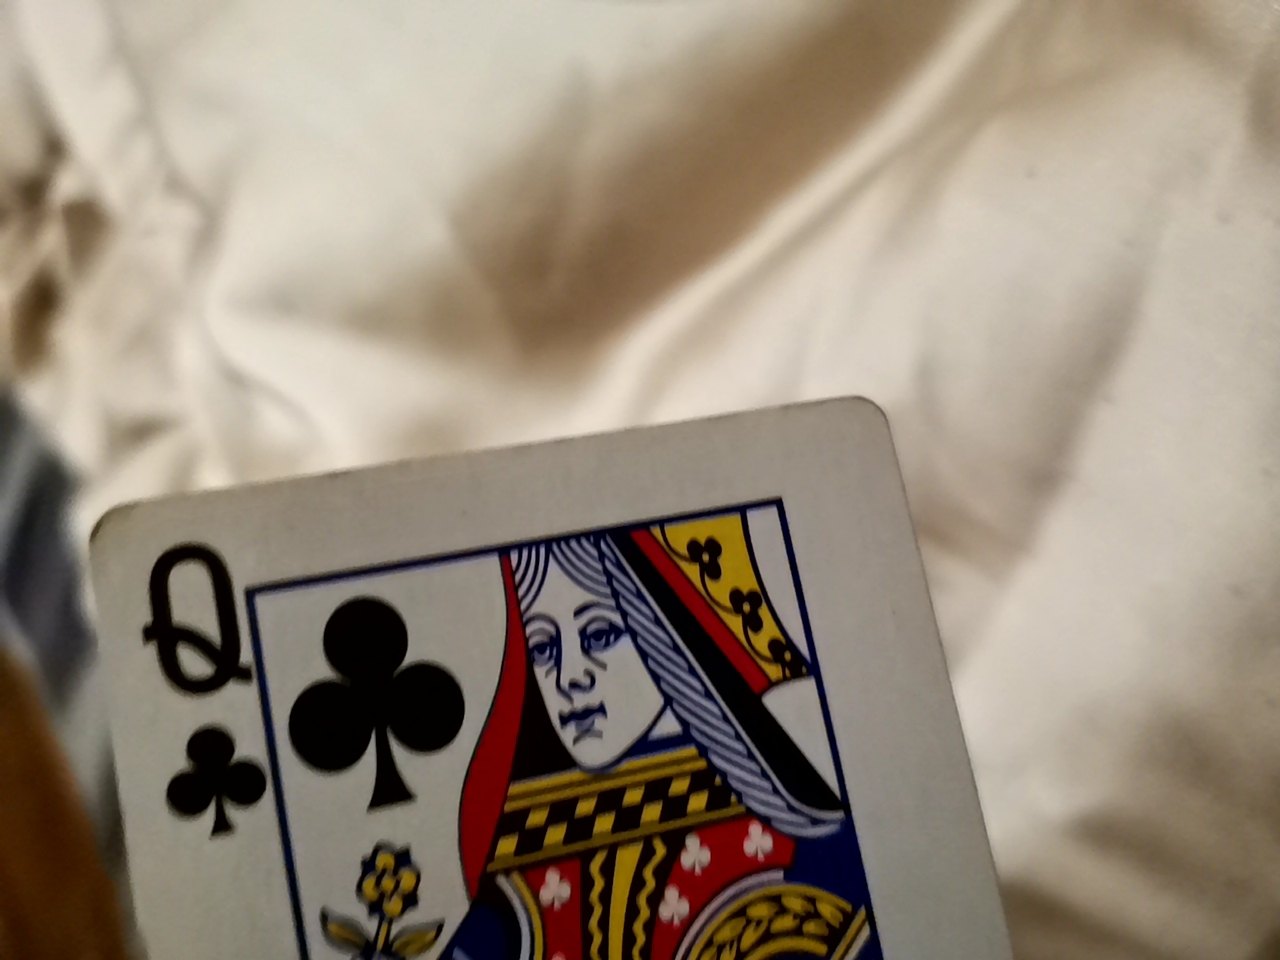mh q: (19, 439, 1061, 955)
